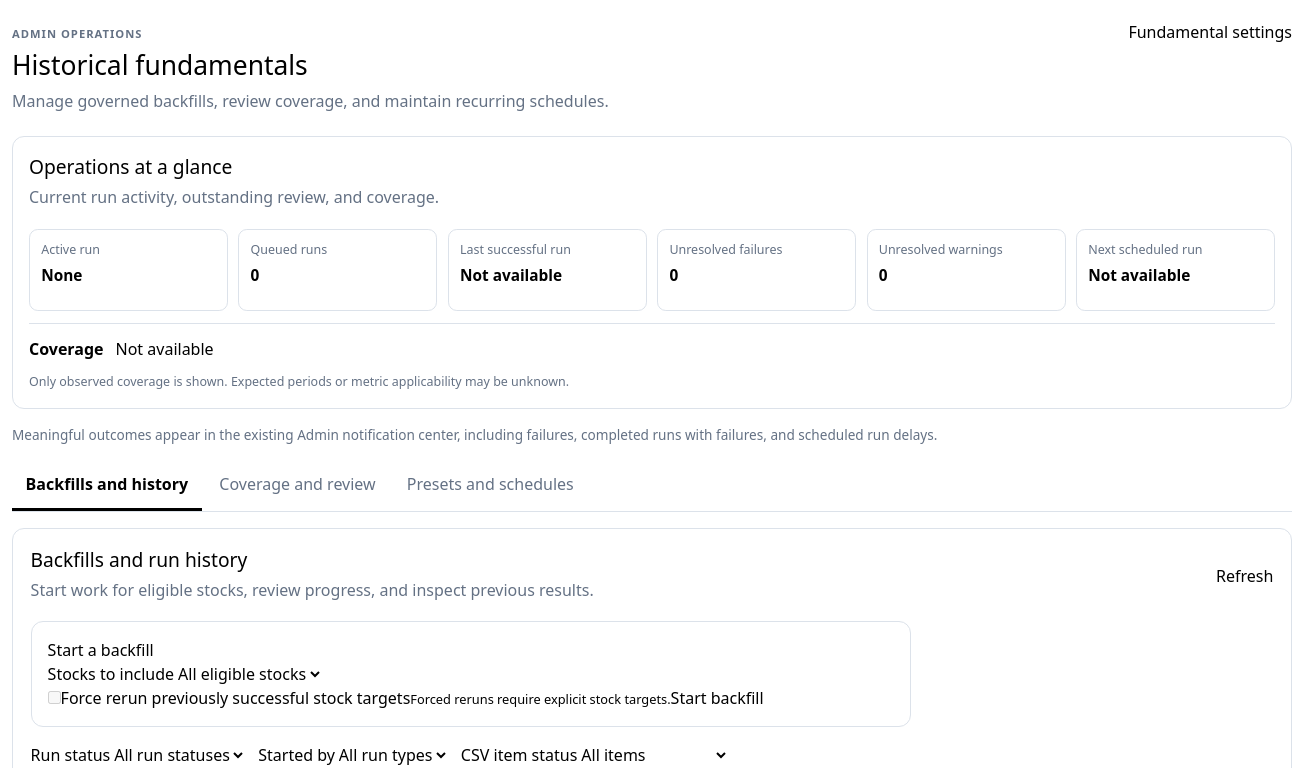
Test: BootstrapOperationsPanel › blocks a repeated write until a failed reconciliation refresh succeeds
Click the button "Start backfill" at point(717, 698), box [671, 686, 764, 710]
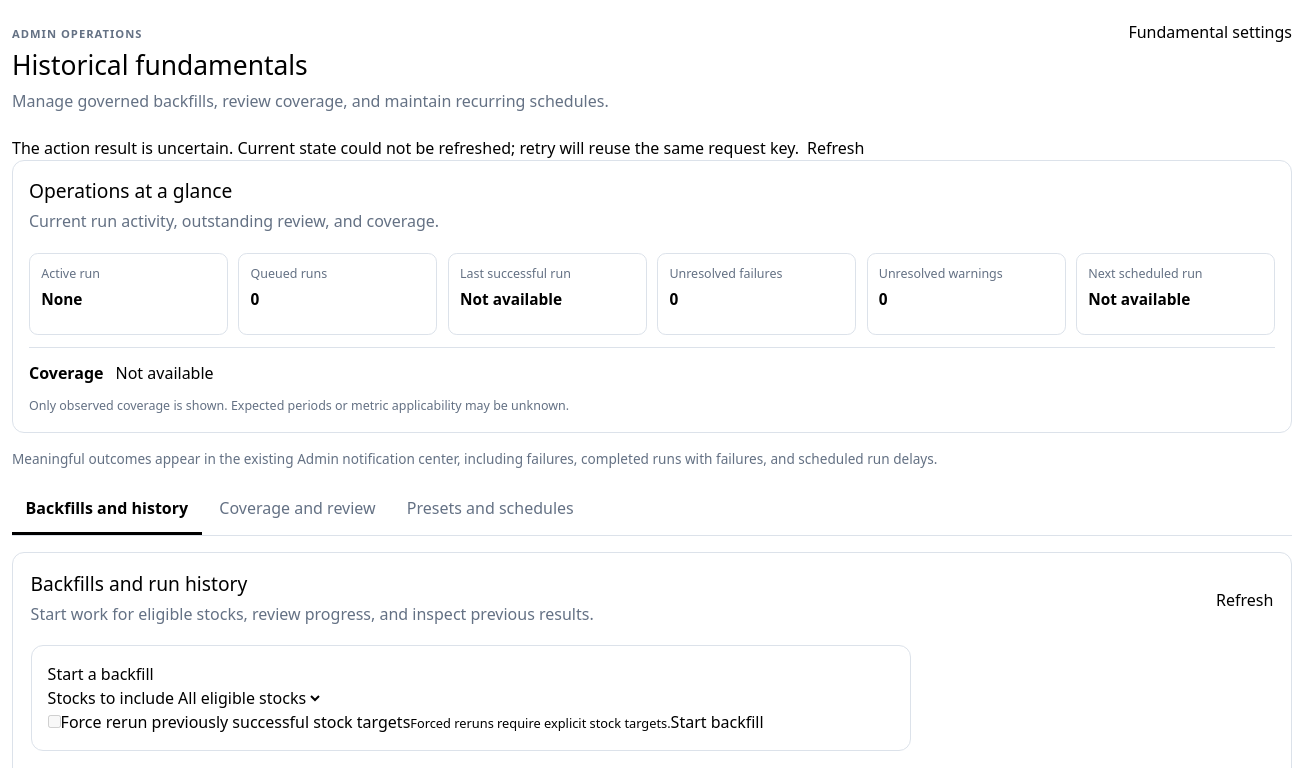
Result: the text "Current state could not be refreshed" is shown at [12, 137, 799, 159]
Result: the button "Start backfill" is disabled at [671, 710, 764, 734]
